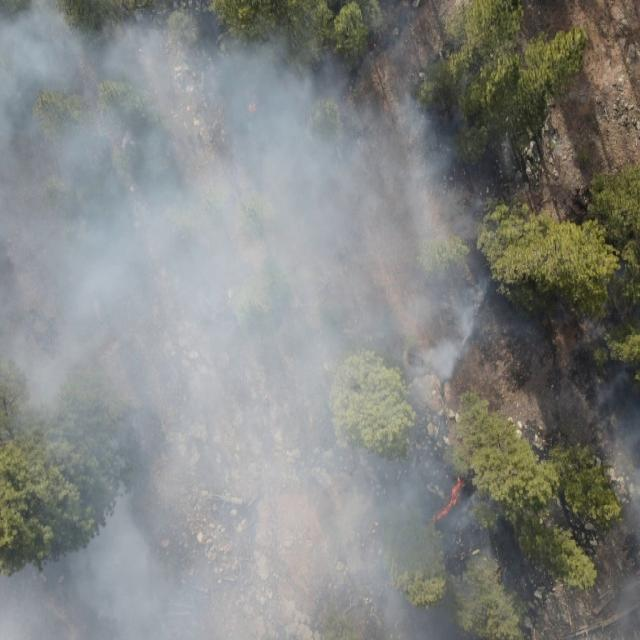fire: (426, 475, 465, 525), (246, 99, 259, 115)
smoke: (0, 0, 494, 640), (494, 301, 640, 640)
